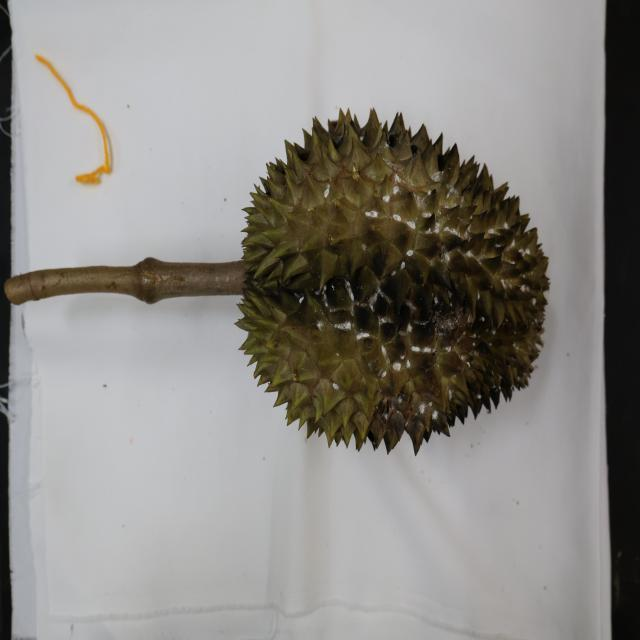defective: (237, 103, 552, 448)
